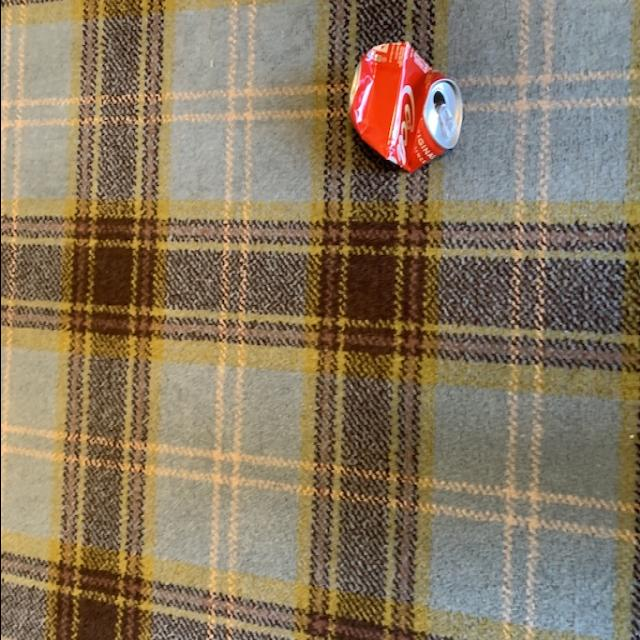Aluminum Can: (338, 33, 470, 188)
